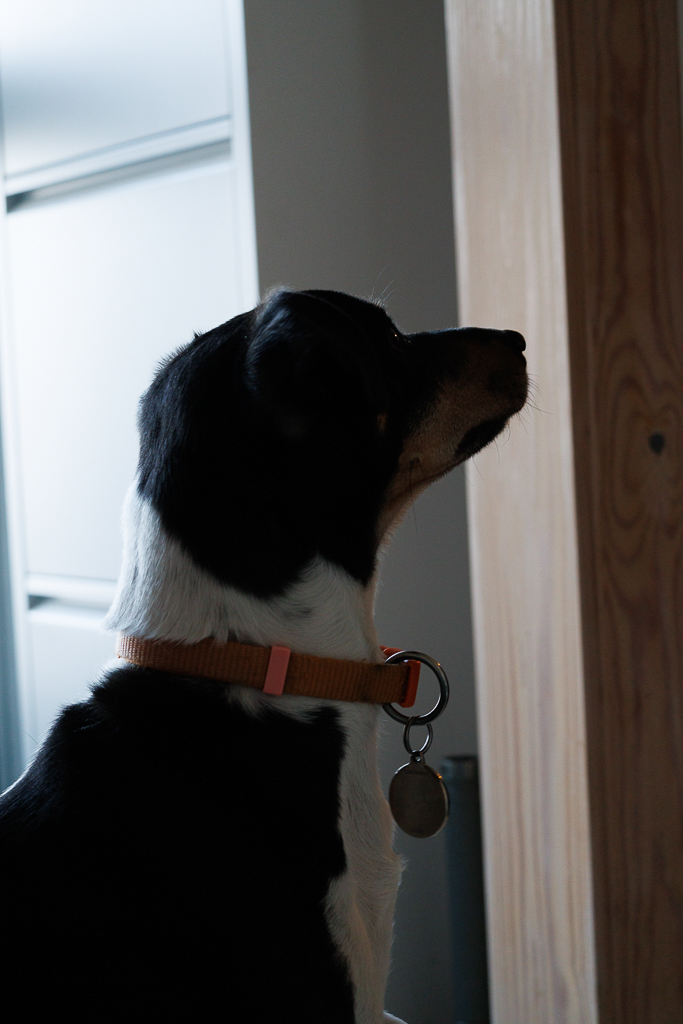Dog: (0, 281, 537, 1023)
